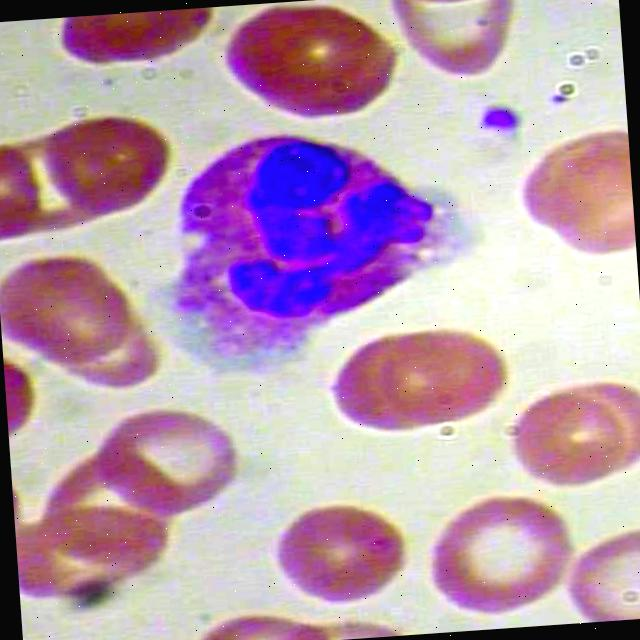Platelets: (468, 94, 536, 146)
RBC: (416, 490, 576, 623), (88, 392, 248, 525), (260, 491, 402, 622), (324, 314, 468, 441), (364, 306, 508, 432), (239, 17, 395, 122), (219, 0, 376, 101), (30, 109, 170, 221), (500, 386, 640, 498), (513, 133, 635, 244), (0, 244, 120, 355)
WBC: (153, 95, 479, 392)
